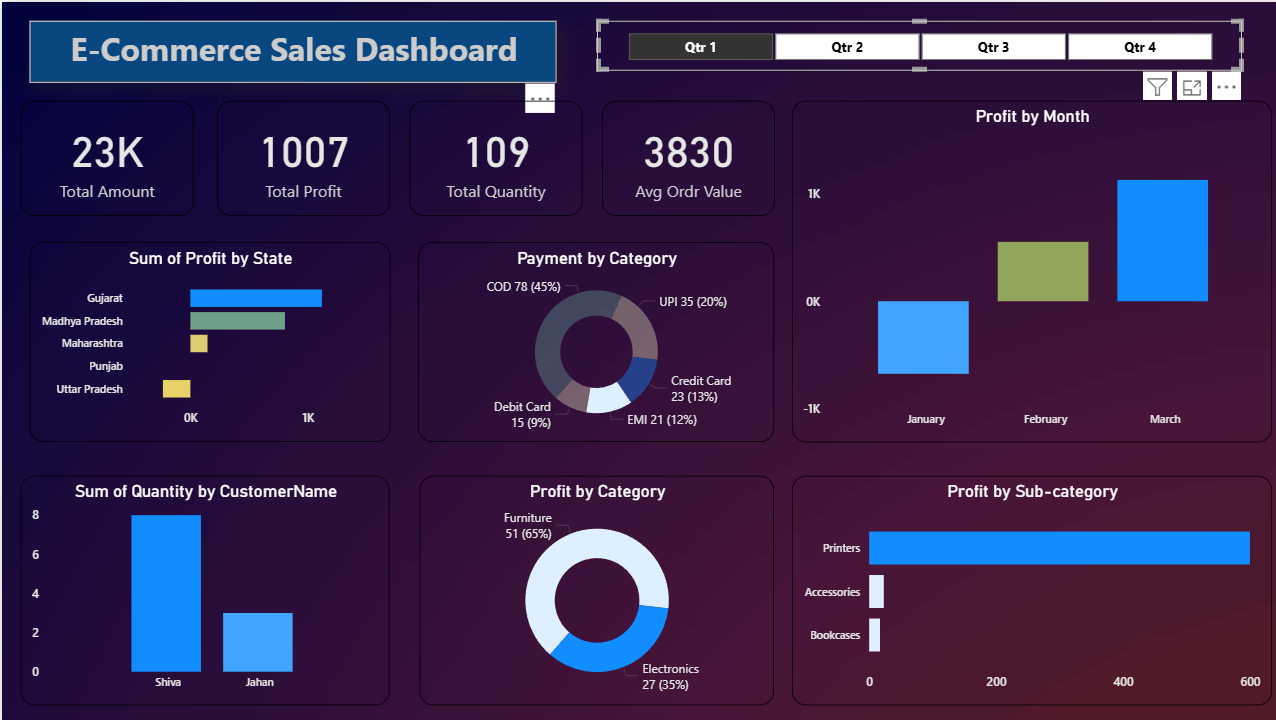

The dashboard page shown, as its layout file describes it:
{"tool":"powerbi","page":{"name":"Page 1","canvas":[1280,720],"ordinal":0},"visuals":[{"type":"textbox","box":[27.4,19,526.2,61.9],"z":0},{"type":"columnChart","title":"Profit by Month","fields":{"Category":["Orders.Order Date.Variation.Date Hierarchy.Month"],"Y":["Sum(Details.Profit)"]},"box":[790.5,98.8,479.8,341.7],"z":1000},{"type":"clusteredBarChart","title":"Profit by Sub-category","fields":{"Y":["Sum(Details.Profit)"],"Category":["Details.Sub-Category"]},"box":[790.5,473.8,479.8,229.8],"z":2000},{"type":"donutChart","title":"Profit by Category","fields":{"Category":["Details.Category"],"Y":["Sum(Details.Quantity)"]},"box":[417.9,473.8,354.8,229.8],"z":2001},{"type":"donutChart","title":"Payment by Category","fields":{"Y":["CountNonNull(Details.Category)"],"Category":["Details.PaymentMode"]},"box":[416.7,240.5,356,200],"z":2002},{"type":"card","fields":{"Values":["Sum(Details.Amount)"]},"box":[19,98.8,172.6,115.5],"z":2003},{"type":"card","fields":{"Values":["Sum(Details.Profit)"]},"box":[215.5,98.8,172.6,115.5],"z":2004},{"type":"card","fields":{"Values":["Sum(Details.Quantity)"]},"box":[407.1,98.8,172.6,115.5],"z":2005},{"type":"card","fields":{"Values":["Sum(Details.Avg Ordr Value)"]},"box":[600,98.8,172.6,115.5],"z":2006},{"type":"barChart","fields":{"Category":["Orders.State"],"Y":["Sum(Details.Profit)"]},"box":[27.4,240.5,360.7,200],"z":2007},{"type":"columnChart","fields":{"Y":["Sum(Details.Quantity)"],"Category":["Orders.CustomerName"]},"box":[19,473.8,369,229.8],"z":2008},{"type":"slicer","fields":{"Values":["Orders.Order Date.Variation.Date Hierarchy.Quarter"]},"box":[595.2,19,645.2,50],"z":2009}]}

Visuals, with their boxes in screenshot pixels (x1, y1, x2, y2), scaled from the page's 1280x720 canvas onto the 1276x720 screenshot:
textbox: bbox(27, 19, 552, 81)
"Profit by Month" columnChart: bbox(788, 99, 1266, 440)
"Profit by Sub-category" clusteredBarChart: bbox(788, 474, 1266, 704)
"Profit by Category" donutChart: bbox(417, 474, 770, 704)
"Payment by Category" donutChart: bbox(415, 240, 770, 440)
card - Sum(Details.Amount): bbox(19, 99, 191, 214)
card - Sum(Details.Profit): bbox(215, 99, 387, 214)
card - Sum(Details.Quantity): bbox(406, 99, 578, 214)
card - Sum(Details.Avg Ordr Value): bbox(598, 99, 770, 214)
barChart - Orders.State x Sum(Details.Profit): bbox(27, 240, 387, 440)
columnChart - Sum(Details.Quantity) x Orders.CustomerName: bbox(19, 474, 387, 704)
slicer - Orders.Order Date.Variation.Date Hierarchy.Quarter: bbox(593, 19, 1237, 69)
